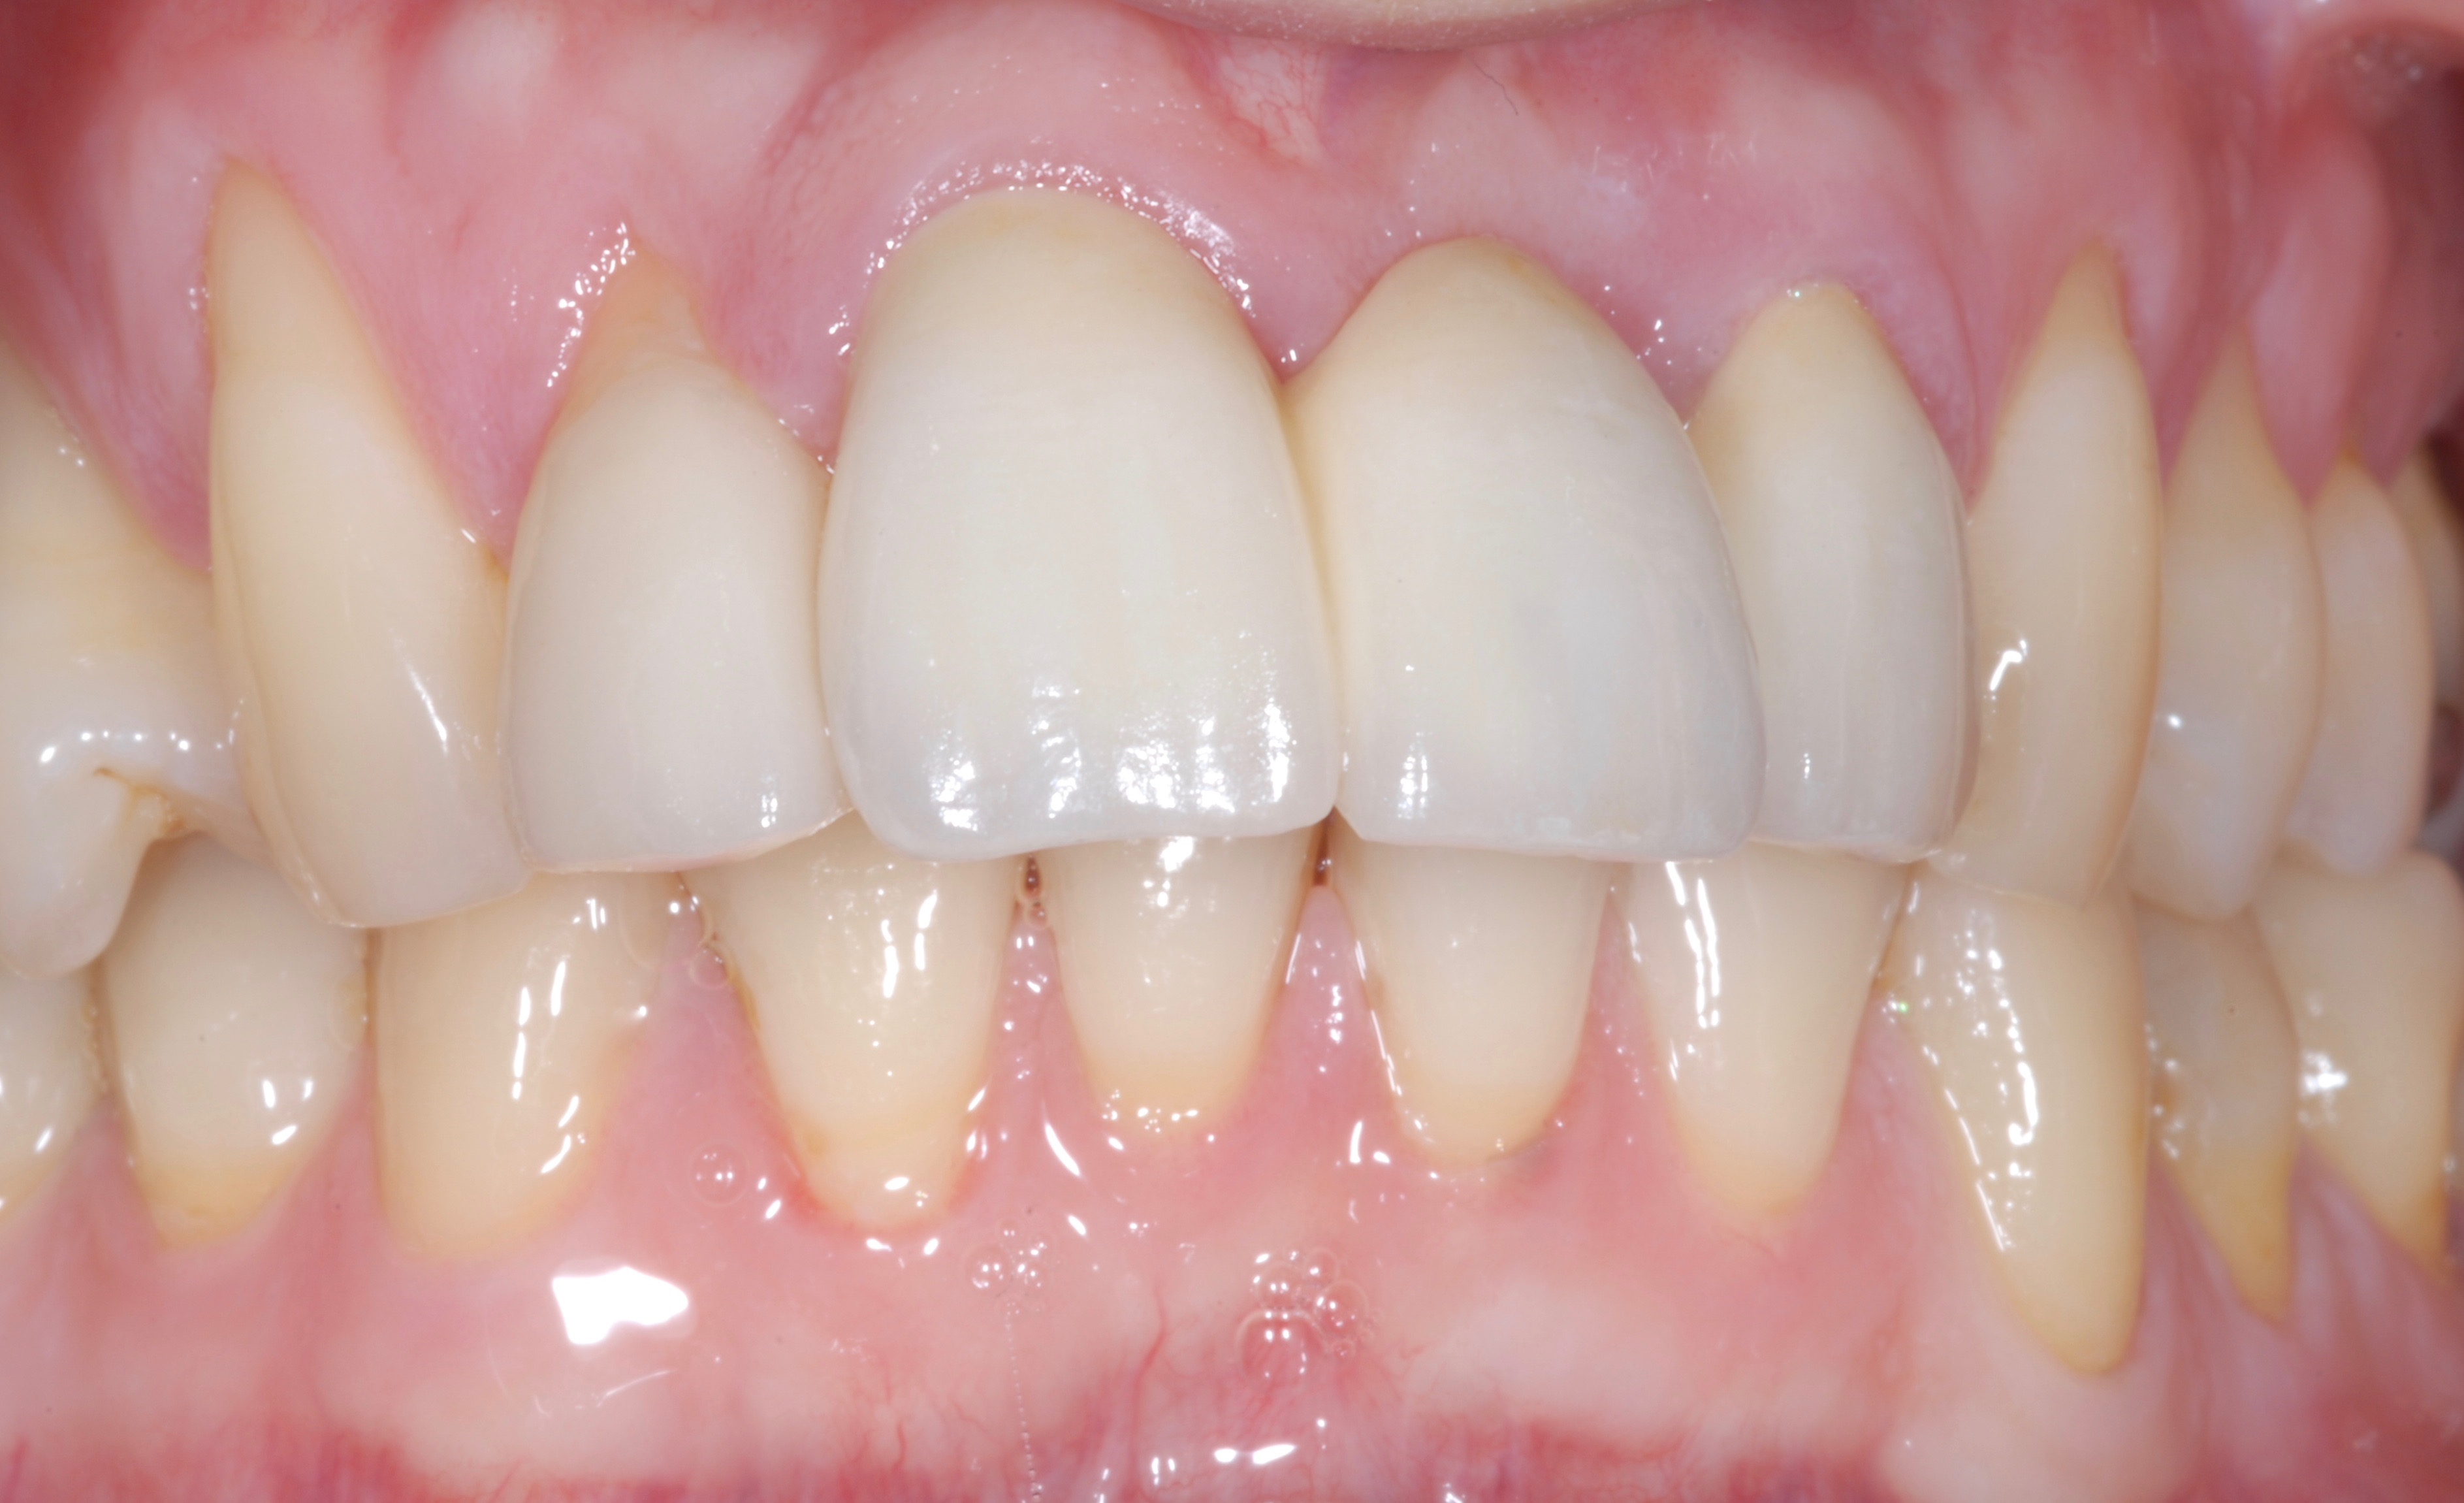LL1BC_healthy: (2144, 924, 2295, 1313)
LL2BC_healthy: (2290, 882, 2464, 1246)
LLCI_healthy: (1327, 854, 1607, 1156)
LLC_healthy: (1897, 875, 2152, 1369)
LLLI_healthy: (1614, 857, 1904, 1209)
LR1BC_healthy: (113, 894, 370, 1234)
LRCI_healthy: (1033, 839, 1299, 1112)
LRC_healthy: (373, 910, 667, 1243)
LRLI_healthy: (693, 861, 1019, 1218)
UL1BC_healthy: (2163, 373, 2314, 915)
UL2BC_healthy: (2314, 489, 2429, 880)
ULCI_healthy: (1325, 236, 1764, 854)
ULC_healthy: (1969, 278, 2163, 880)
ULLI_healthy: (1748, 292, 1966, 859)
URCI_healthy: (820, 188, 1343, 839)
URC_healthy: (209, 181, 507, 927)
URLI_healthy: (502, 294, 820, 869)
